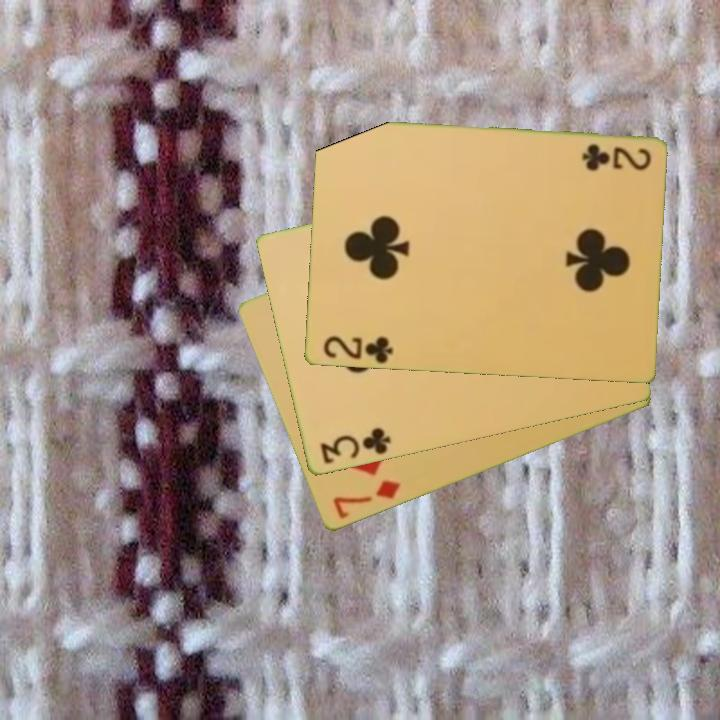2c: (319, 333, 395, 366), (578, 141, 653, 174)
3c: (316, 424, 394, 467)
7d: (328, 477, 403, 523)
